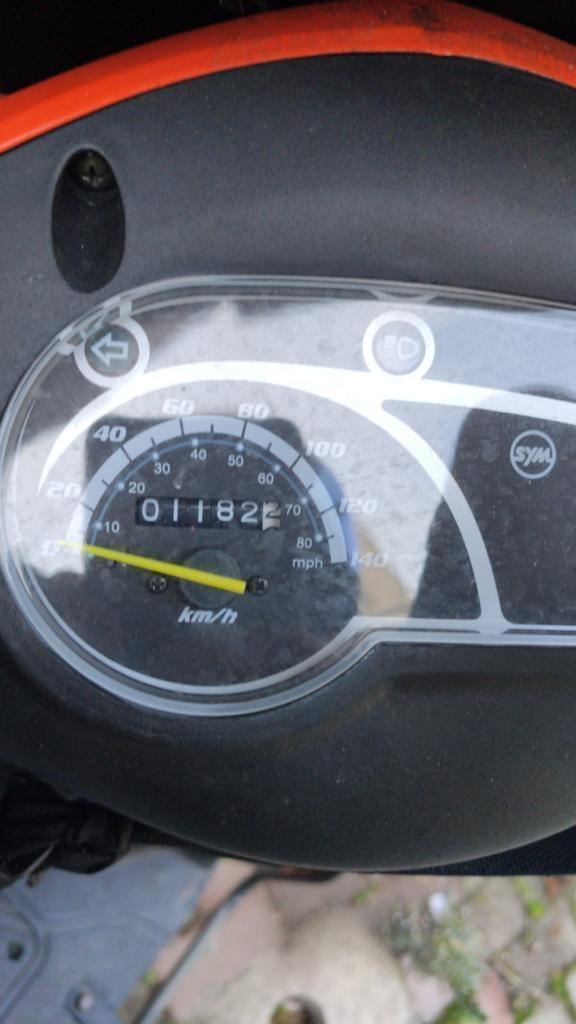0: (140, 497, 159, 522)
1: (168, 496, 182, 523), (192, 497, 206, 524)
2: (238, 499, 259, 524), (264, 500, 282, 519)
8: (214, 499, 235, 523)
odometer: (130, 492, 285, 534)
